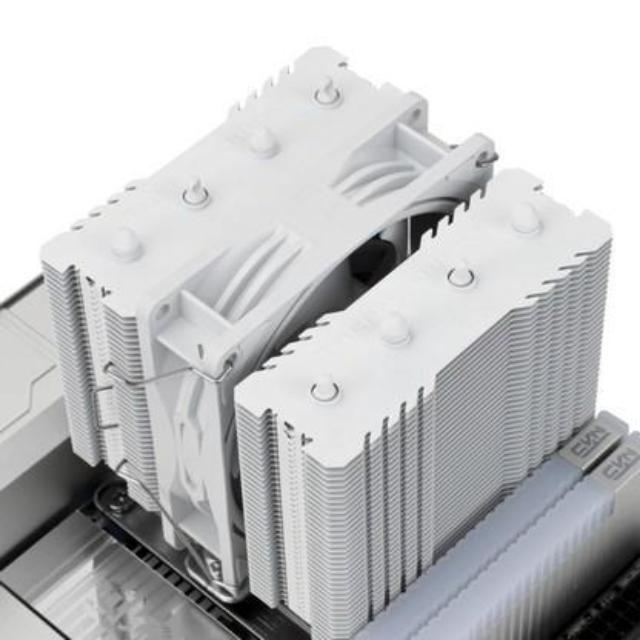CPU_Fan: (40, 40, 606, 631)
